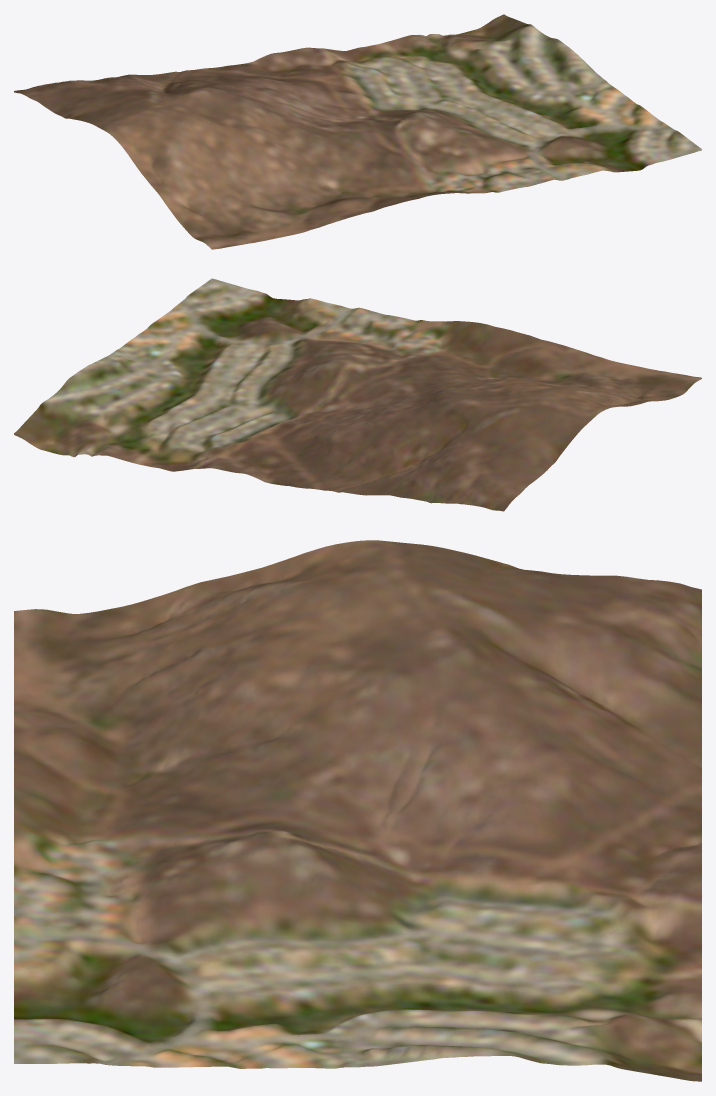
Rendered from terrain_r0_c6.glb.
3 views of the same model, one above another, from view 1: azimuth 30°, elevation 25°; view 2: azimuth 150°, elevation 25°; view 3: azimuth 270°, elevation 25° (orthographic). The views are drawn at different scales.
Parts seen in each view (by area): view 1: terrain_r0_c6_lod0; view 2: terrain_r0_c6_lod0; view 3: terrain_r0_c6_lod0.
Part boxes in pixels (x1,y1,x2,y2): terrain_r0_c6_lod0: (14, 14, 701, 249); terrain_r0_c6_lod0: (14, 278, 701, 511); terrain_r0_c6_lod0: (14, 540, 701, 1081).
Size of the model in its own units: 1125 by 186 by 787.
Materials: 1 (1 with a texture image).
